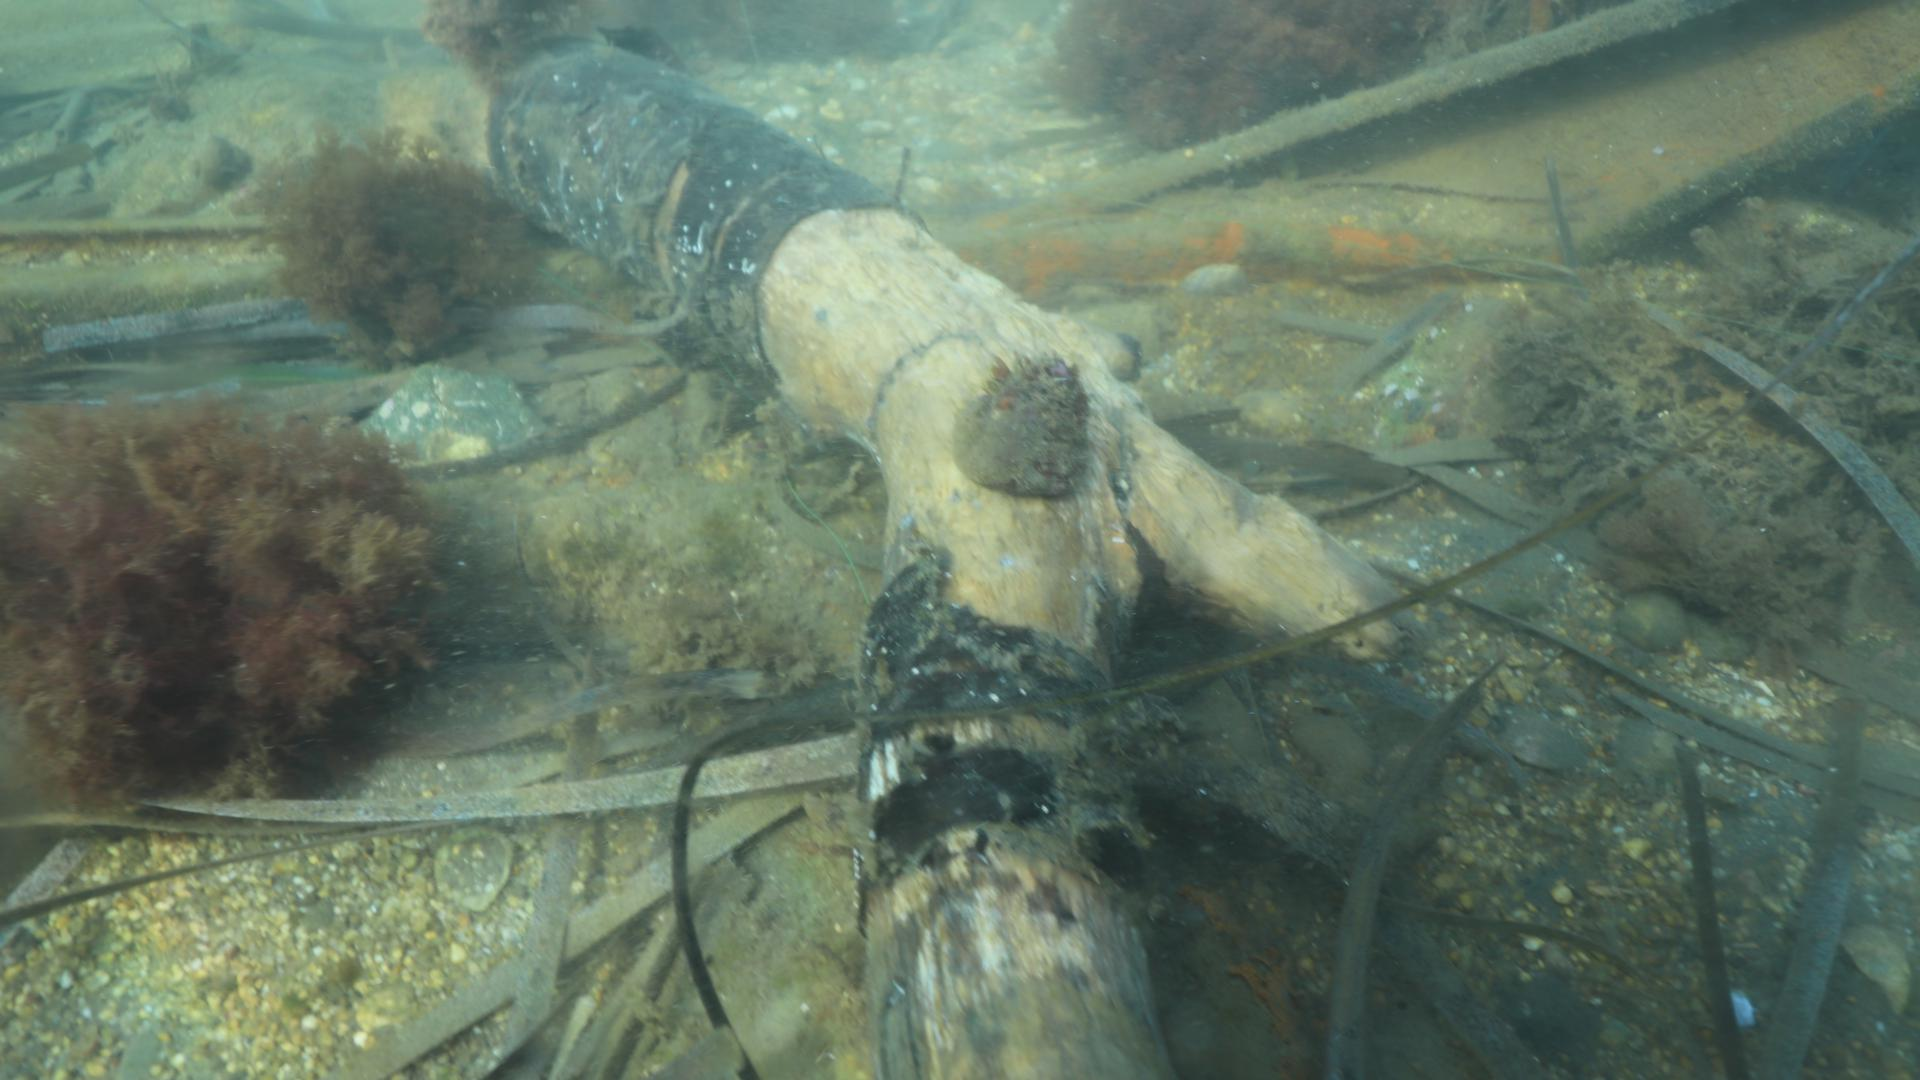wood: (447, 21, 1404, 1080)
